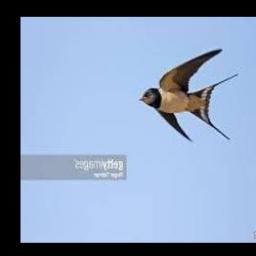Swallow: (139, 48, 239, 141)
